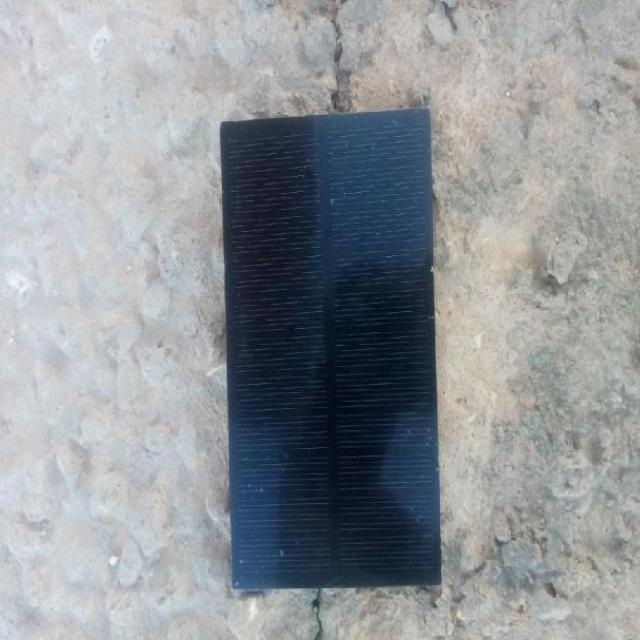Normal Solar Panel: (222, 108, 442, 591)
